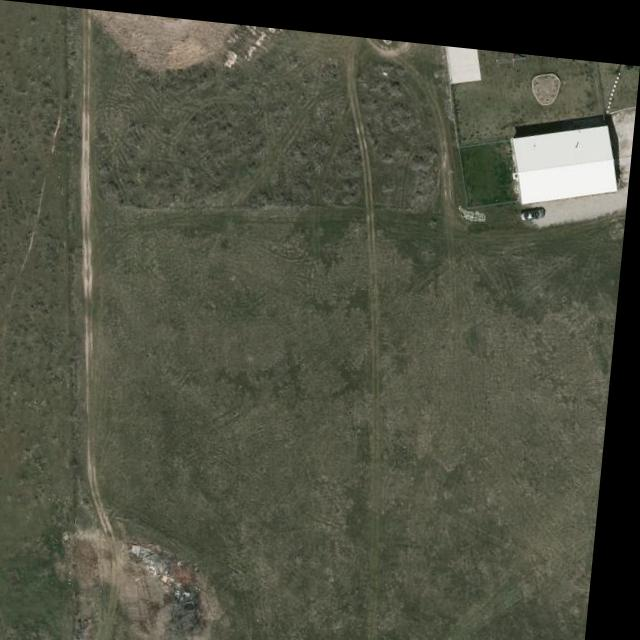vehicle: (522, 194, 550, 212)
